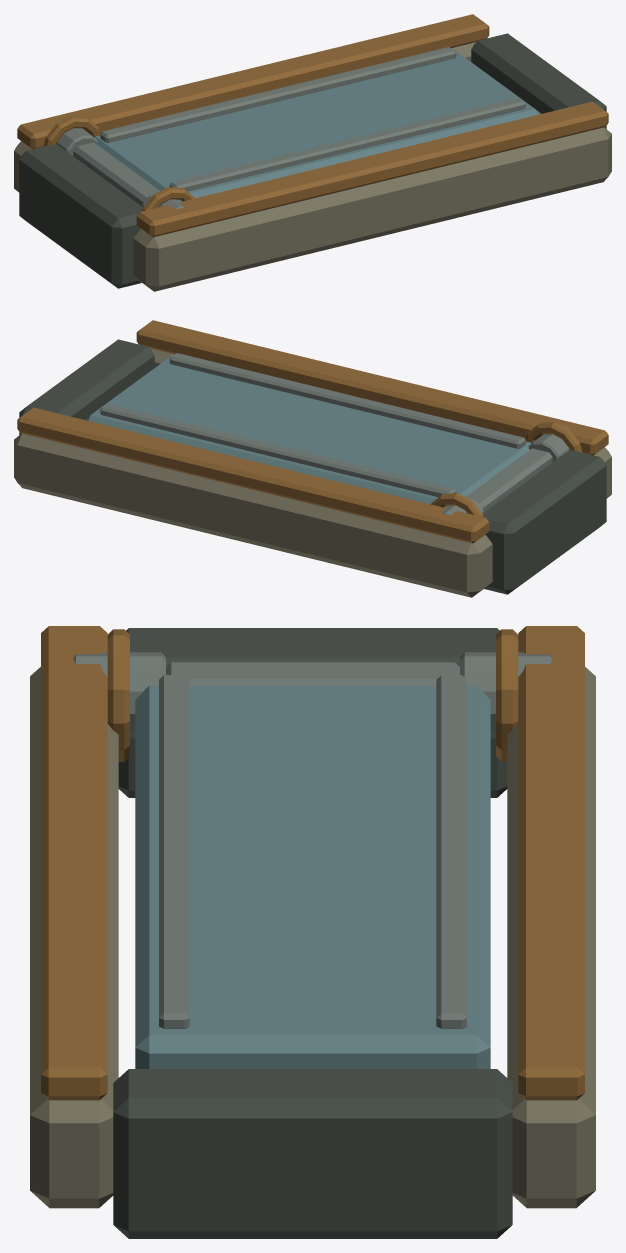
Rendered from HINGED_FLAP.lo.glb.
The picture shows the model from 3 angles, top to bottom: view 1: azimuth 30°, elevation 25°; view 2: azimuth 150°, elevation 25°; view 3: azimuth 270°, elevation 25°; orthographic projection. The views are drawn at different scales.
Parts seen in each view (by area): view 1: Body_Mesh, FlapPivot_Mesh; view 2: Body_Mesh, FlapPivot_Mesh; view 3: Body_Mesh, FlapPivot_Mesh.
Part boxes in pixels (<box>): Body_Mesh: <box>14,14,611,291</box>; FlapPivot_Mesh: <box>73,47,540,206</box>; Body_Mesh: <box>14,320,611,597</box>; FlapPivot_Mesh: <box>85,353,552,512</box>; Body_Mesh: <box>30,626,595,1238</box>; FlapPivot_Mesh: <box>135,662,490,1068</box>.
Bounding box in the file's own units: 2.06 × 0.36 × 1.02.
